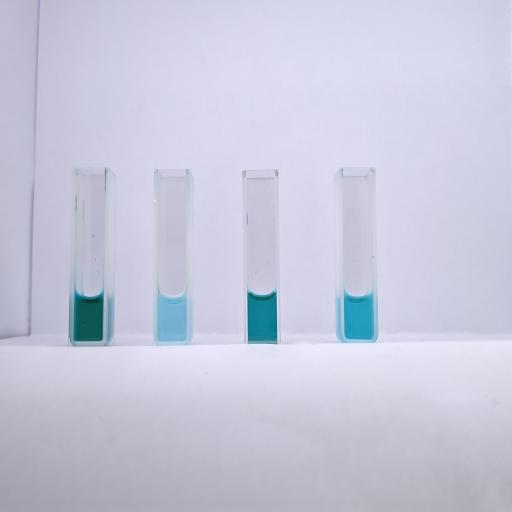cuvette: (67, 163, 112, 346), (152, 165, 194, 346), (240, 166, 282, 344), (338, 166, 380, 343)
liquid: (247, 290, 277, 340), (74, 290, 103, 341), (344, 291, 374, 340), (158, 291, 186, 341)
